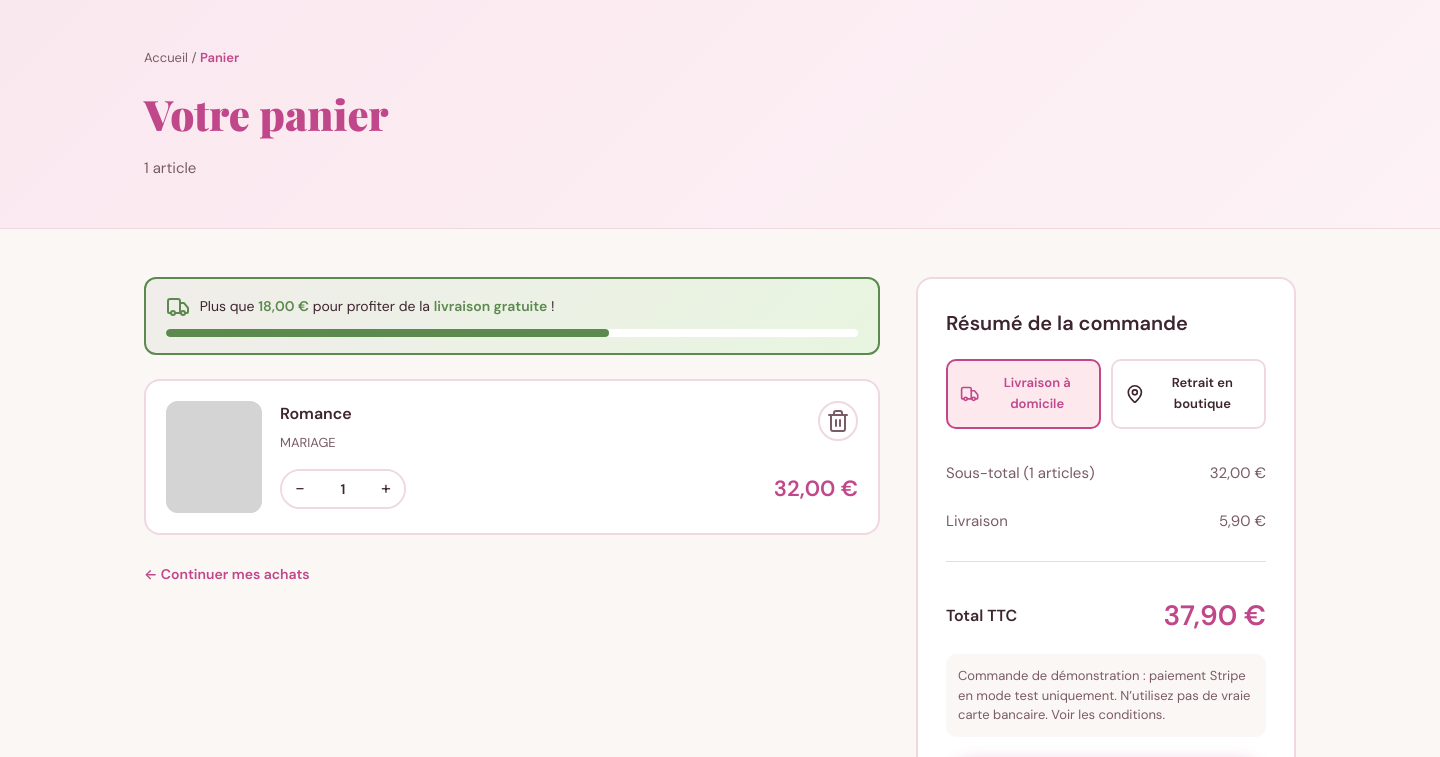
Scenario: Composition, panier et statut du paiement › calcule le total avec les frais et permet de retirer le produit
Expected: the text "37,90 €" is shown, [1164, 594, 1266, 638]
Click the button "+" at x=386, y=489, box [368, 471, 404, 507]
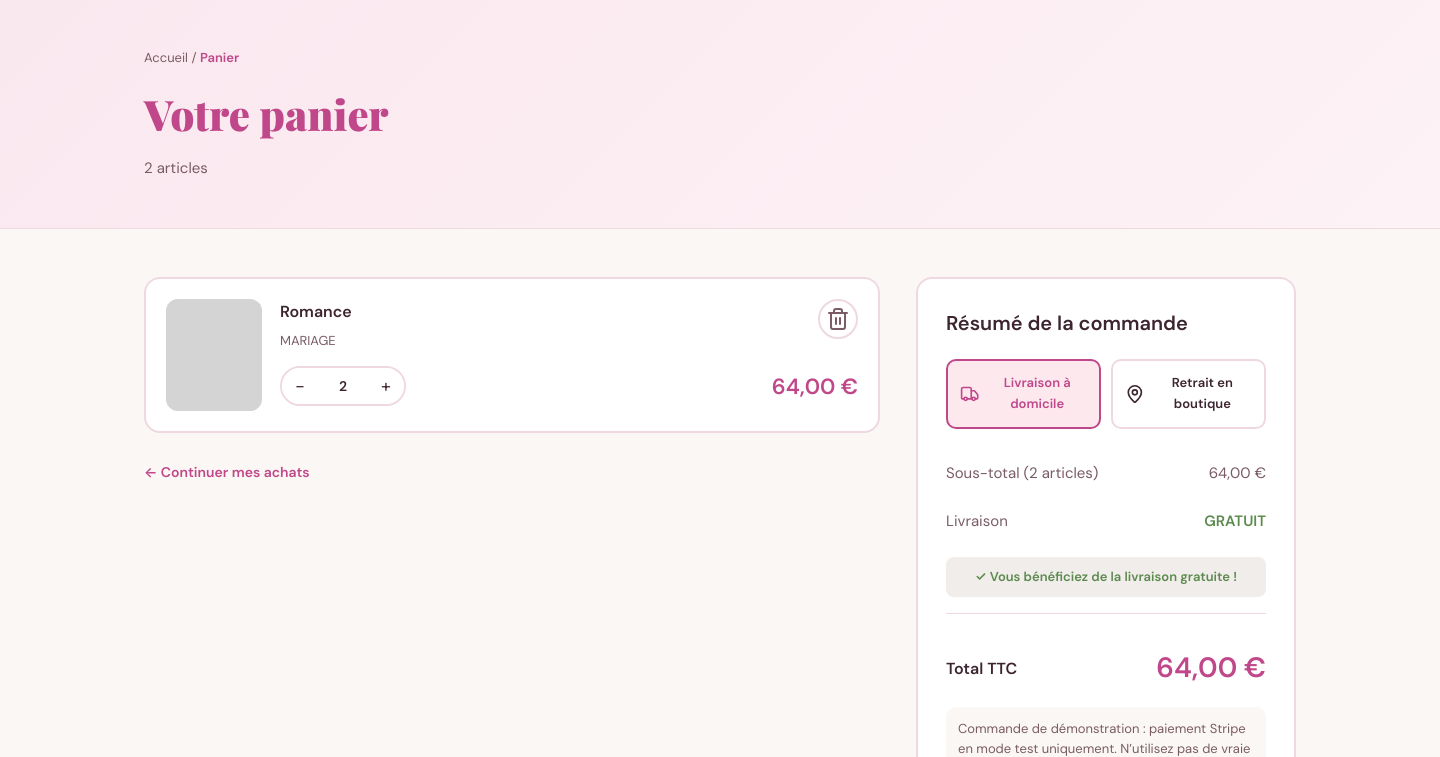
Expected: the 1st text "64,00 €" is shown, [772, 369, 858, 404]
Click the button named "Retirer du panier" at x=838, y=319, box [818, 299, 858, 339]
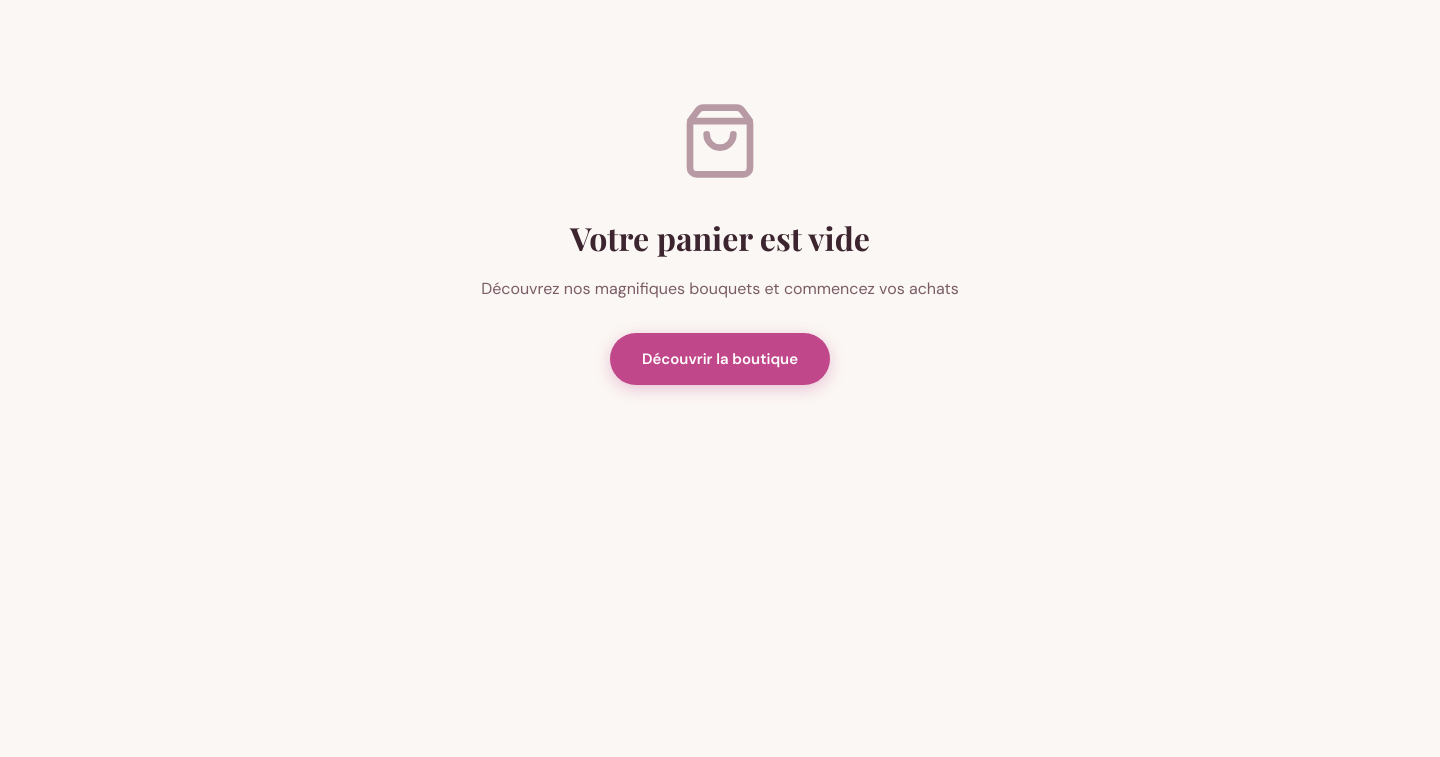
Expected: the heading "Votre panier est vide" is shown, [570, 216, 870, 259]
